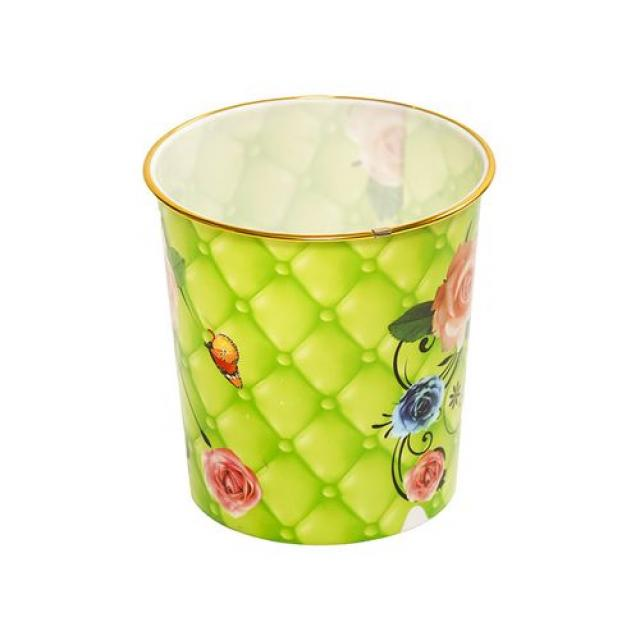Dustbin: (138, 87, 504, 550)
